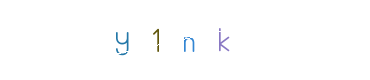1: (117, 0, 197, 80)
K: (145, 0, 225, 80)
N: (144, 0, 224, 80)
Y: (107, 0, 187, 80)
